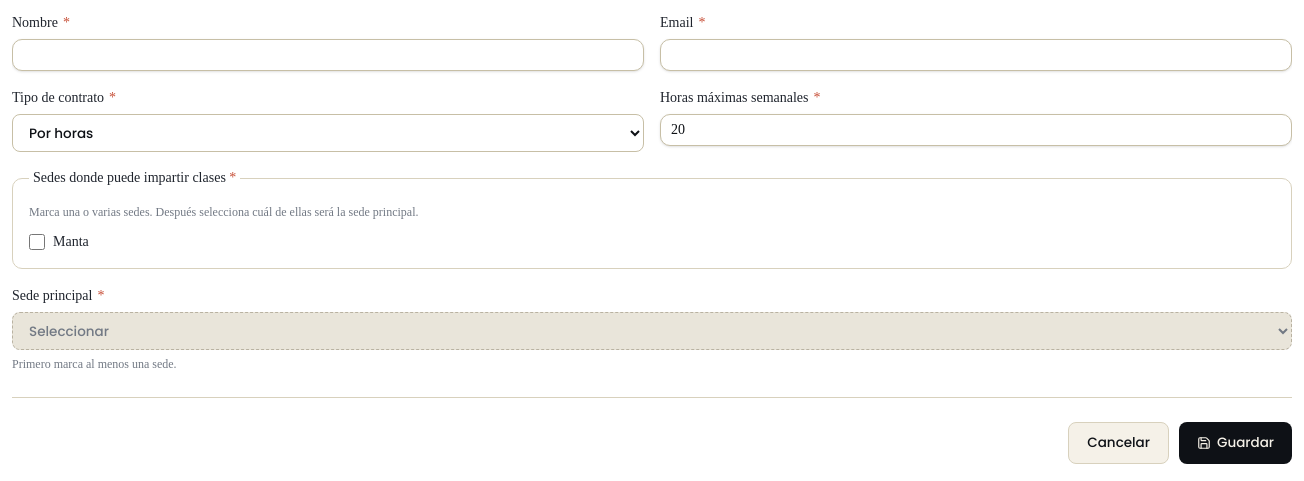
Test: DocenteForm › asigna una carga mÃ­nima de 40 horas al seleccionar tiempo completo
Select "Tiempo completo" in the dropdown labelled "Tipo de contrato *". click: (328, 133)
box: [12, 114, 644, 152]
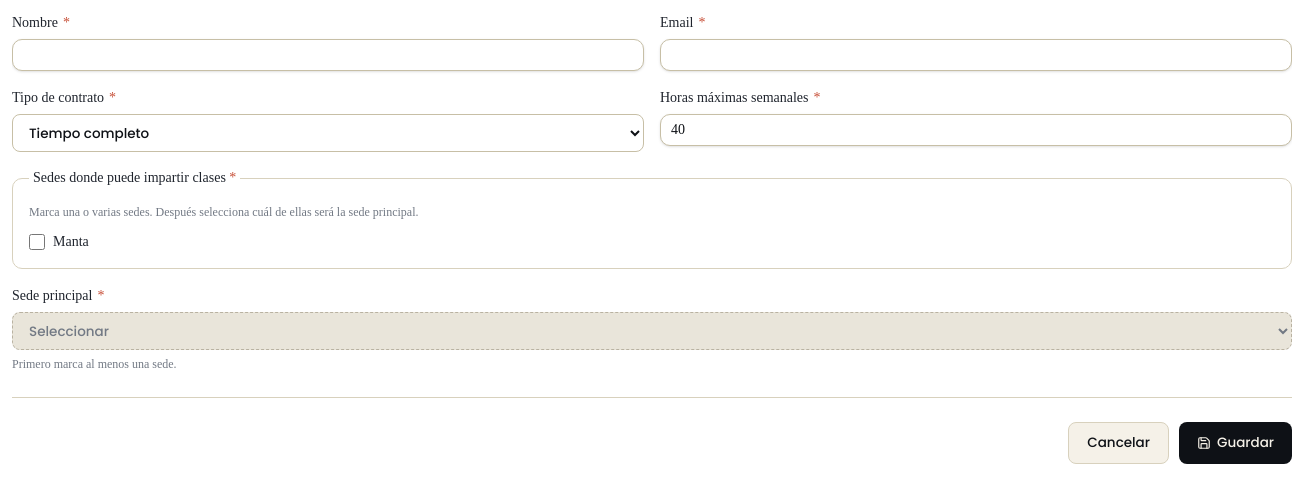
Check: the number field labelled "Horas máximas semanales *" holds "40", box [660, 114, 1292, 146]
